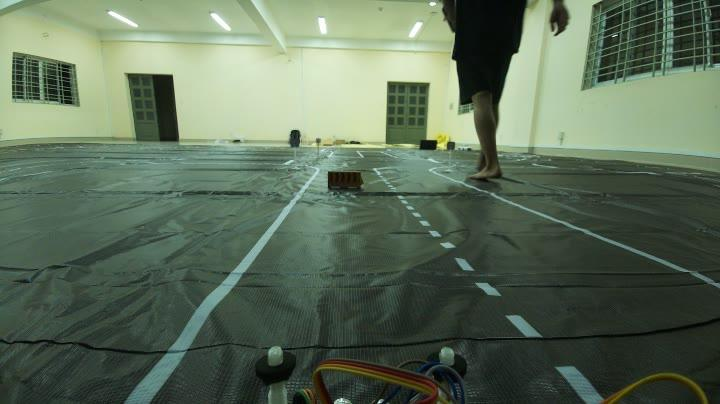roadblock: (321, 164, 368, 194)
